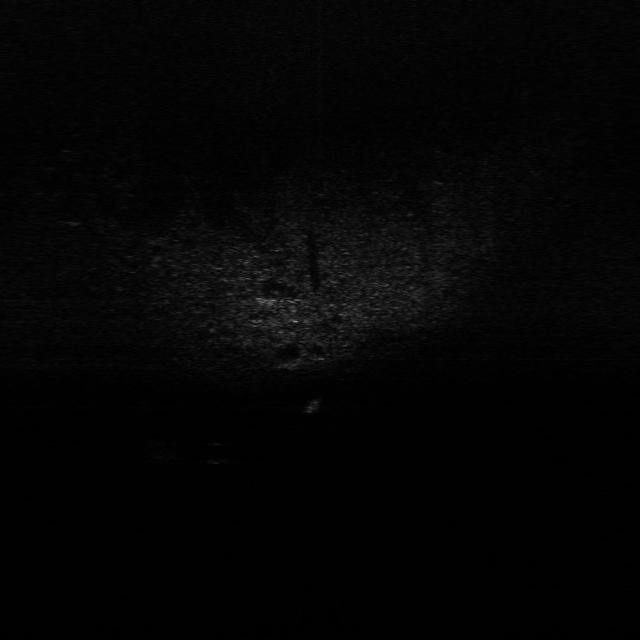ball: (201, 438, 238, 465)
circle cage: (130, 432, 182, 468)
cylinder: (298, 395, 322, 420)
